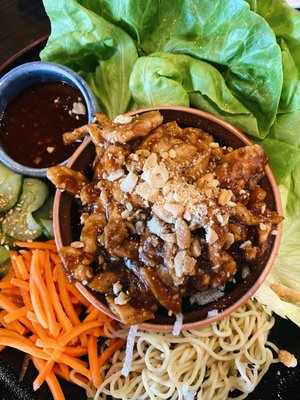sushi: (0, 61, 98, 179)
